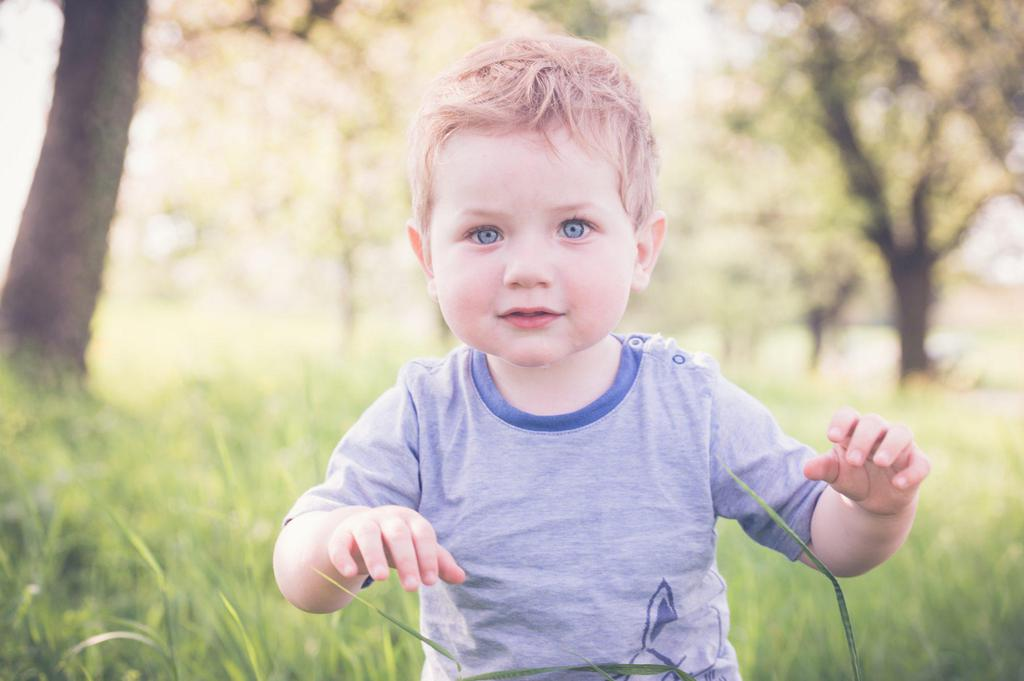child: (268, 22, 921, 681)
